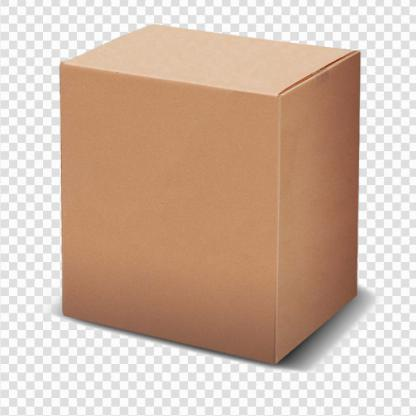package: (60, 25, 357, 365)
